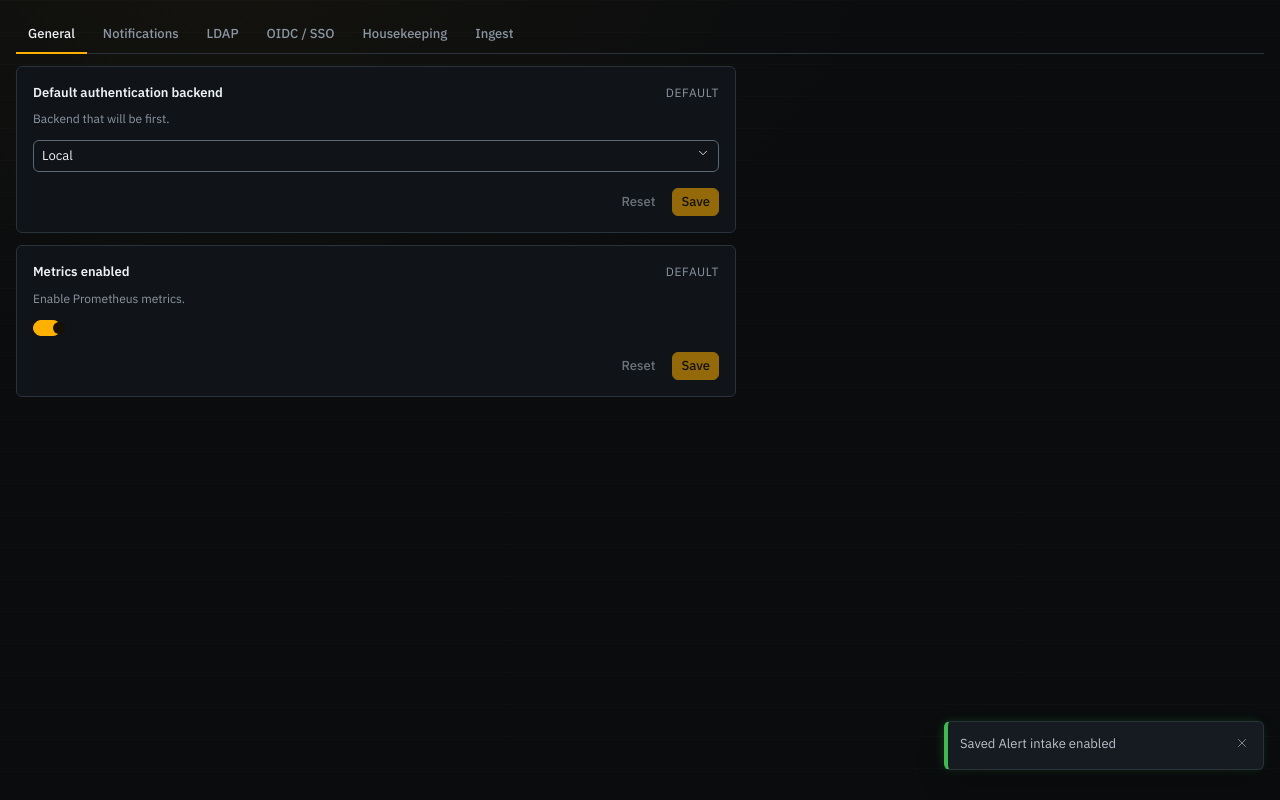
Test case: Housekeeping run panel (rw_all gating) › shows the on-demand run panel to an admin (rw_all)
The width and height of the screenshot is (1280, 800).
Click the tab "Housekeeping": (405, 35) [350,16,459,54]
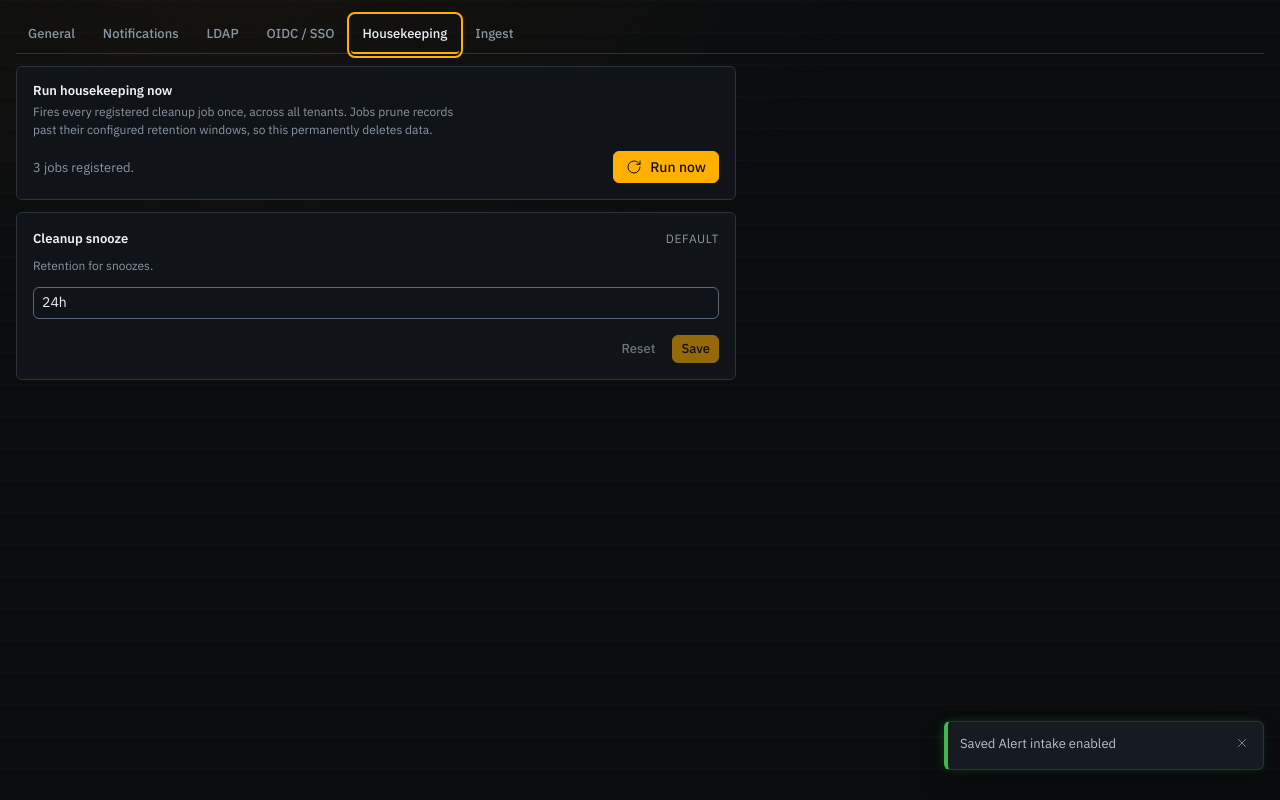
Expected: the button "Run now" is shown, [613,151,719,183]
